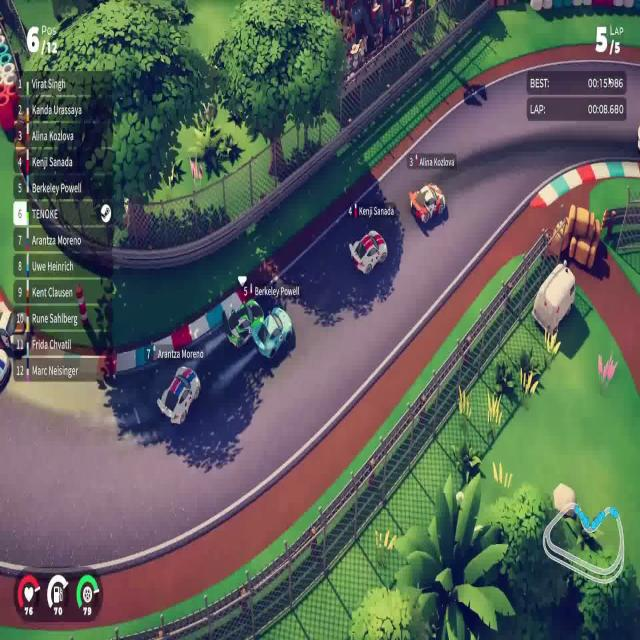car: (156, 364, 201, 426), (226, 298, 264, 349), (253, 308, 294, 355), (348, 228, 388, 276), (408, 181, 446, 225)
